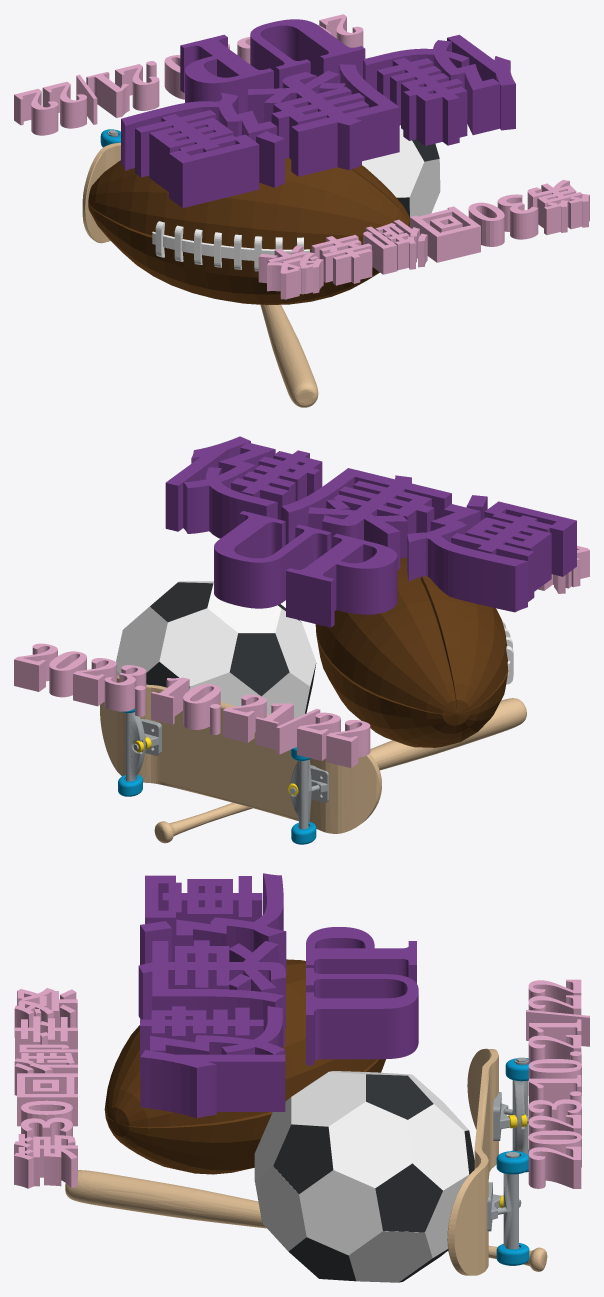
The model's file is tinker.obj.
3 renders of one model, top to bottom at view 1: azimuth 30°, elevation 25°; view 2: azimuth 150°, elevation 25°; view 3: azimuth 270°, elevation 25°, orthographic. The views are drawn at different scales.
Visible parts, largest first — view 1: group_0_8273816, group_0_15708628, group_0_6306067, group_0_16448250, group_0_14860437; view 2: group_0_8273816, group_0_6306067, group_0_14860437, group_0_15708628, group_0_16448250, group_0_2829873, group_0_10988977, group_0_40919; view 3: group_0_8273816, group_0_16448250, group_0_15708628, group_0_6306067, group_0_14860437, group_0_2829873, group_0_10988977, group_0_40919.
Boxes of the visible parts, box(x1,y1,x2,y2) form: group_0_8273816: box(121, 19, 515, 207); group_0_15708628: box(14, 14, 589, 299); group_0_6306067: box(88, 158, 409, 305); group_0_16448250: box(152, 125, 440, 271); group_0_14860437: box(82, 142, 318, 407); group_0_8273816: box(165, 436, 576, 627); group_0_6306067: box(315, 557, 508, 747); group_0_14860437: box(100, 675, 526, 843); group_0_15708628: box(14, 545, 589, 768); group_0_16448250: box(116, 581, 513, 718); group_0_2829873: box(146, 582, 316, 713); group_0_10988977: box(125, 712, 328, 829); group_0_40919: box(118, 708, 316, 844); group_0_8273816: box(138, 873, 418, 1118); group_0_16448250: box(254, 1071, 469, 1282); group_0_15708628: box(14, 979, 589, 1188); group_0_6306067: box(104, 959, 385, 1174); group_0_14860437: box(65, 1048, 547, 1275); group_0_2829873: box(255, 1074, 474, 1282); group_0_10988977: box(487, 1057, 528, 1265); group_0_40919: box(496, 1058, 529, 1265).
Size of the model in its own units: 21.86 by 14.2 by 27.
